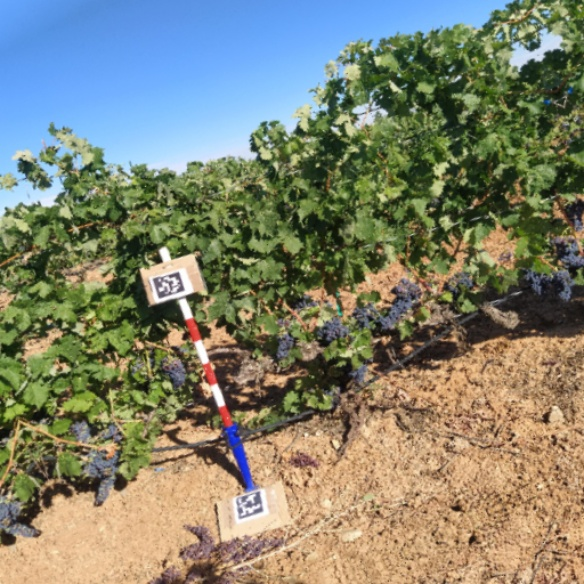QR: (145, 264, 191, 306), (229, 486, 269, 524)
